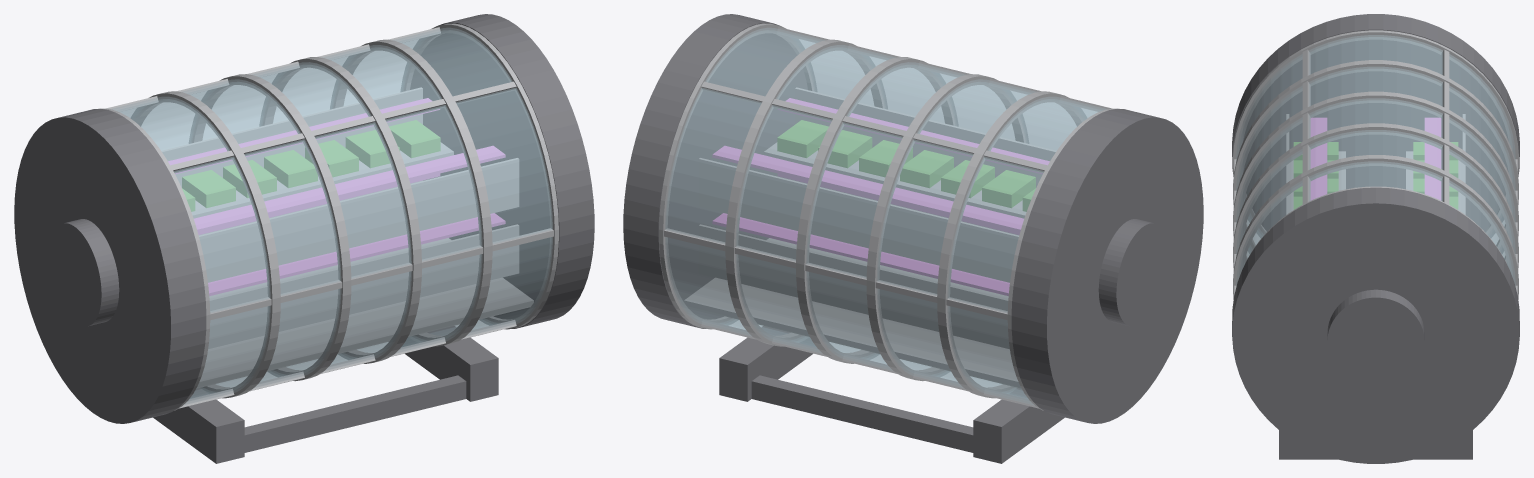
File: rover12_greenhouse.glb
The picture shows the model from 3 angles, left to right: view 1: azimuth 30°, elevation 25°; view 2: azimuth 150°, elevation 25°; view 3: azimuth 270°, elevation 25°; orthographic projection. The views are drawn at different scales.
Visible parts, largest first — view 1: glazing, end_bulkheads, grow_trays, hoop_ribs, base_skid, floor, stringers, grow_lights, plants; view 2: glazing, end_bulkheads, grow_trays, hoop_ribs, base_skid, floor, stringers, grow_lights, plants; view 3: end_bulkheads, glazing, hoop_ribs, stringers, grow_lights, plants, base_skid, grow_trays.
Boxes of the visible parts, x1,y1,x2,y2 form: glazing: (111, 28, 552, 404); end_bulkheads: (14, 14, 594, 423); grow_trays: (161, 87, 519, 349); hoop_ribs: (98, 23, 558, 410); base_skid: (153, 326, 498, 463); floor: (196, 238, 533, 388); stringers: (106, 27, 553, 408); grow_lights: (168, 98, 505, 295); plants: (182, 120, 440, 211); glazing: (665, 28, 1106, 404); end_bulkheads: (623, 14, 1203, 423); grow_trays: (698, 87, 1056, 349); hoop_ribs: (659, 23, 1119, 410); base_skid: (719, 326, 1064, 463); floor: (684, 238, 1021, 388); stringers: (664, 27, 1111, 408); grow_lights: (712, 98, 1049, 295); plants: (777, 120, 1035, 211); end_bulkheads: (1232, 14, 1519, 463); glazing: (1236, 35, 1515, 286); hoop_ribs: (1233, 30, 1518, 299); stringers: (1234, 49, 1517, 294); grow_lights: (1310, 117, 1441, 200); plants: (1293, 142, 1458, 209); base_skid: (1279, 430, 1472, 459); grow_trays: (1286, 114, 1465, 214).
Size of the model in its own units: 6.5 by 4.25 by 3.85.
